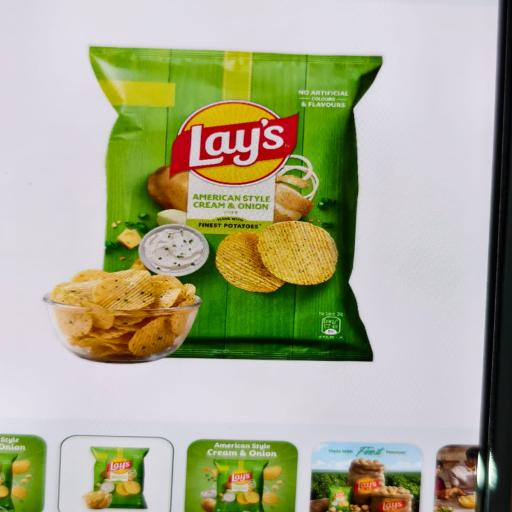green_chips: (90, 47, 382, 360)
